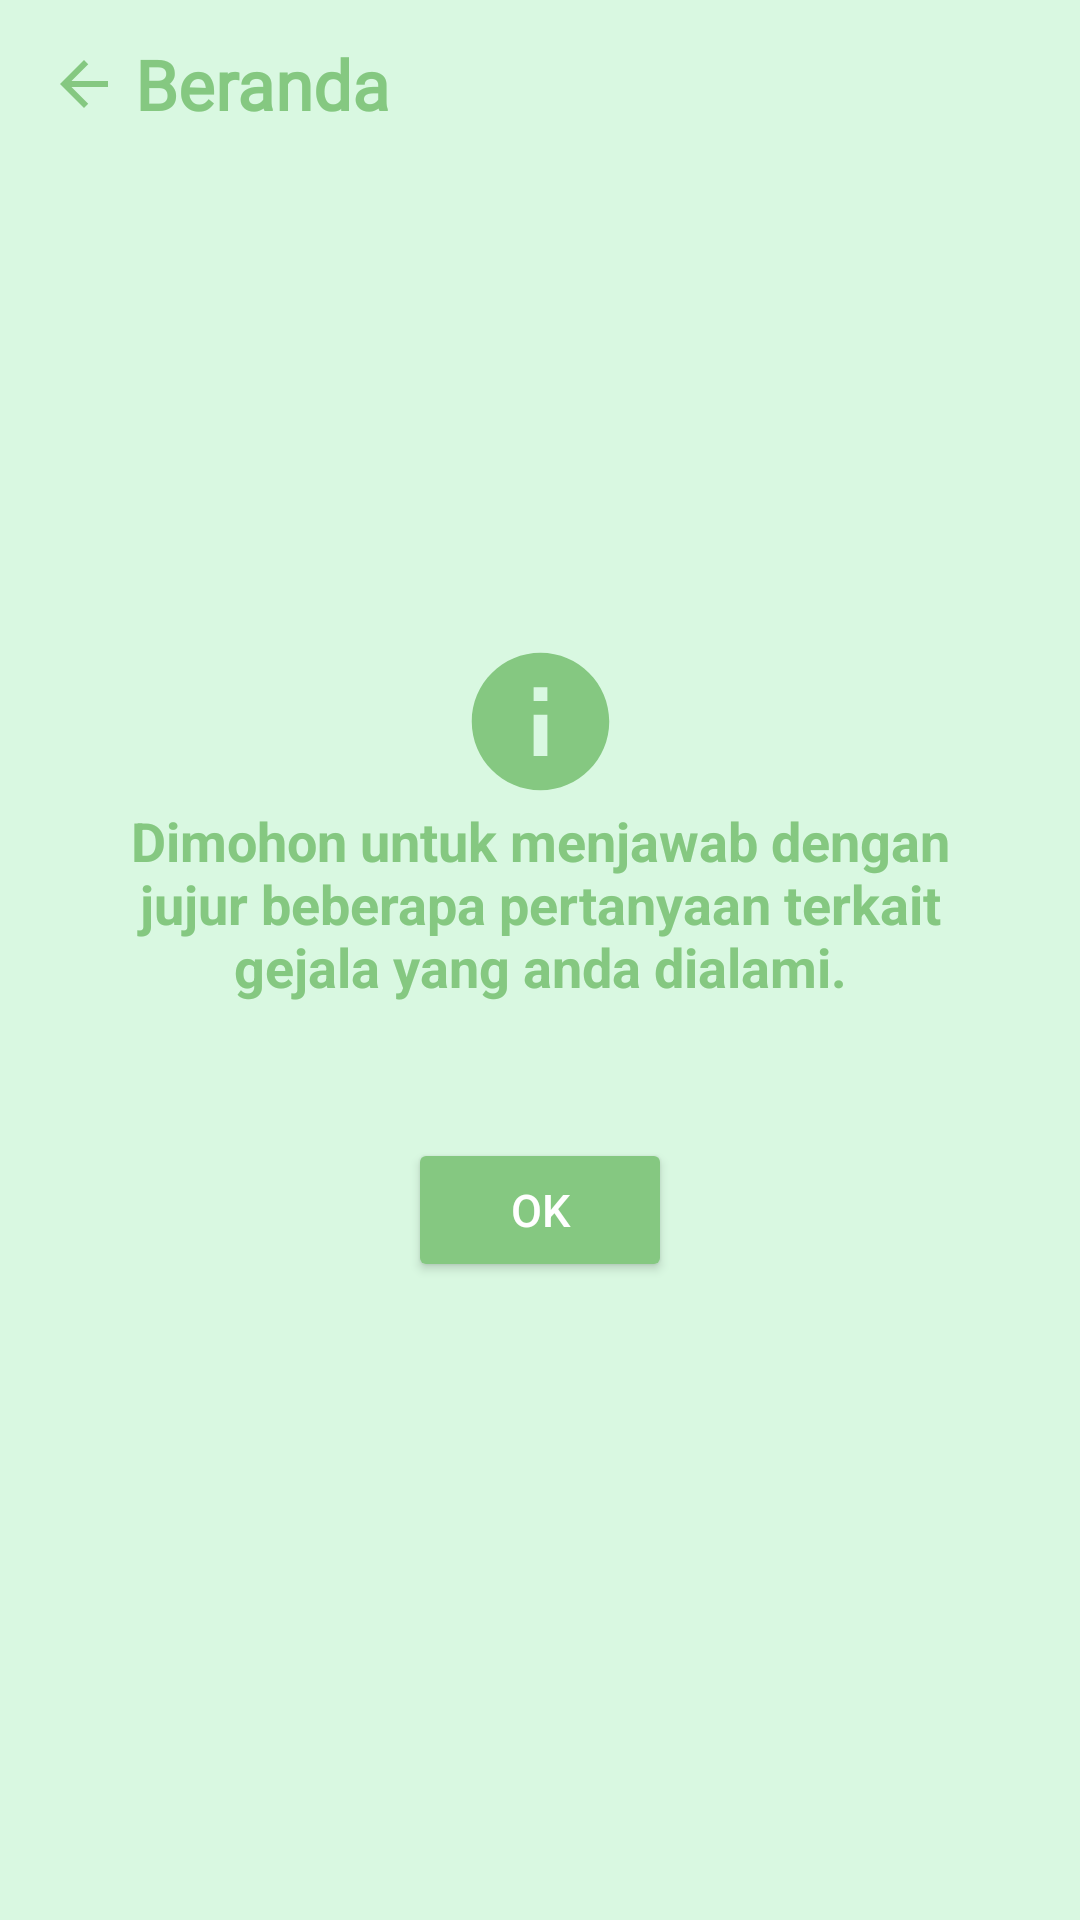

Named icons in this screenshot (1080 × 1920) and their centers, point (x, y):
back: point (84, 84)
info: point (540, 721)
